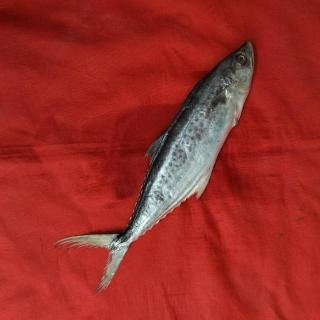Ikan: (93, 30, 258, 289)
